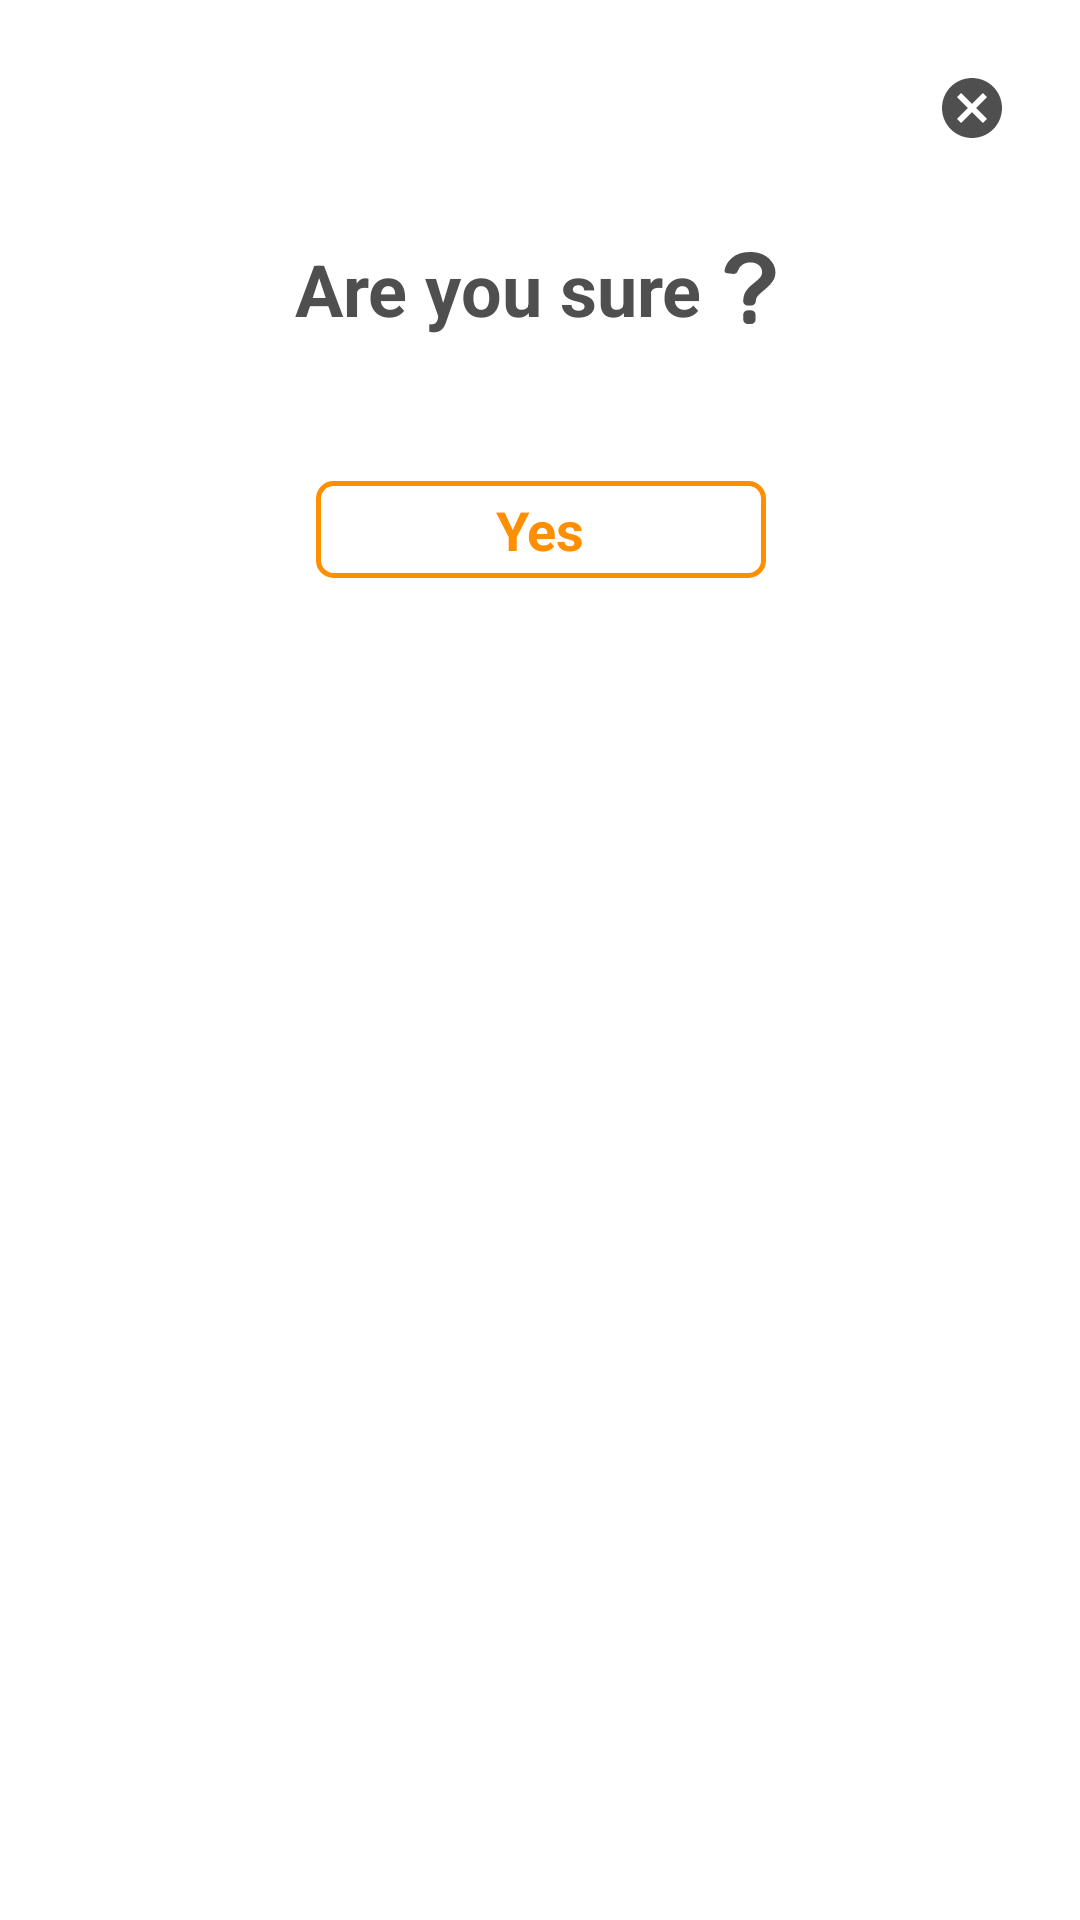

Locate icon controls on the screen. Image size 1080w x 1920h, boxes as (x1=x1, y1=y1, x2=x2, y2=y2).
close icon: (x1=942, y1=78, x2=1002, y2=138)
